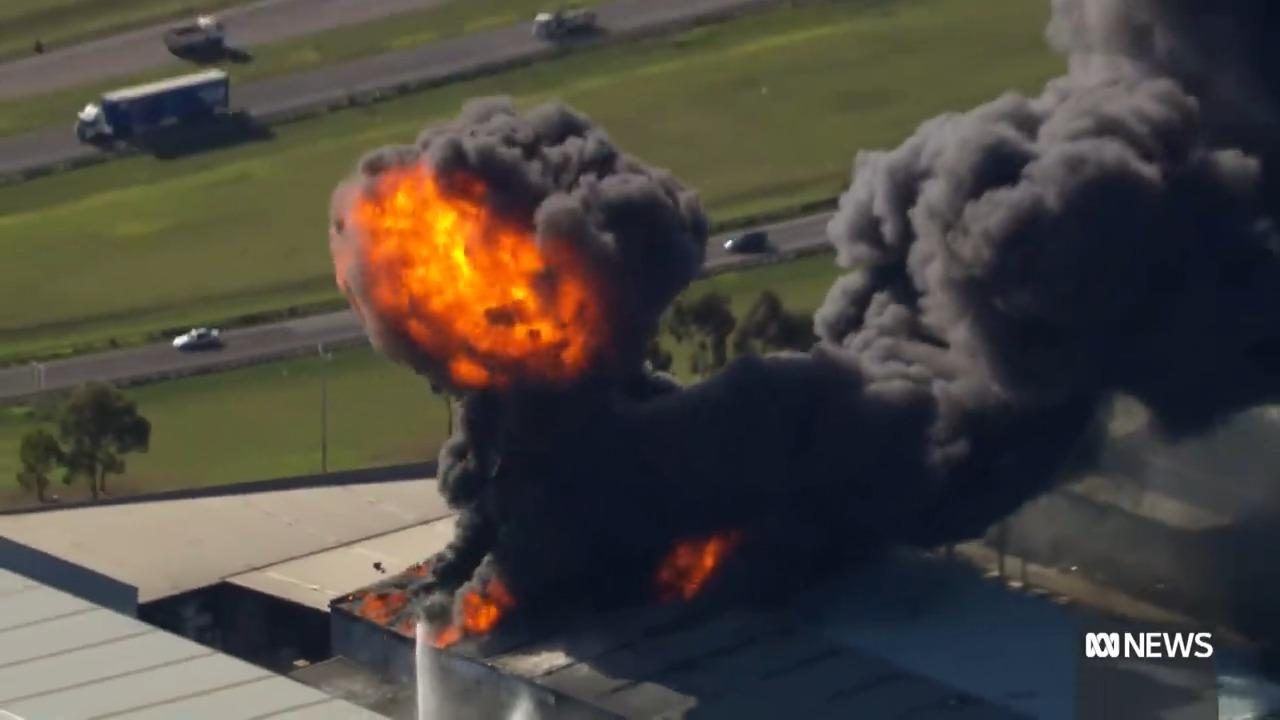fire: (342, 174, 601, 380), (376, 574, 514, 640), (664, 534, 729, 597), (1098, 392, 1144, 440)
